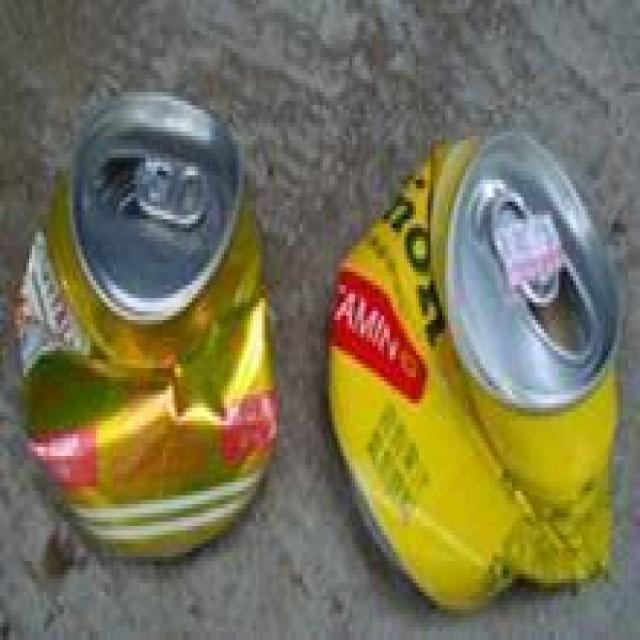recyclable: (326, 125, 624, 611), (17, 90, 280, 566)
